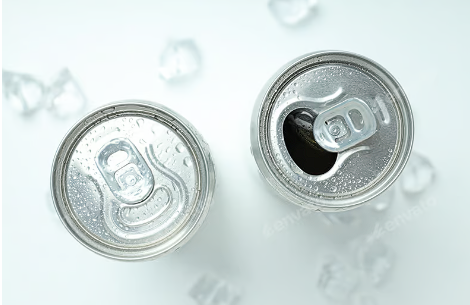Danificado: (260, 58, 412, 200)
Intacto: (50, 112, 214, 254)
